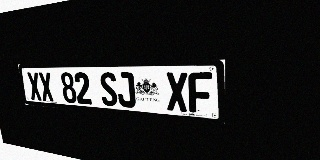2: (74, 72, 92, 105)
8: (60, 72, 77, 103)
F: (188, 72, 212, 114)
J: (116, 72, 136, 108)
S: (99, 72, 118, 107)
X: (165, 72, 188, 112), (38, 72, 54, 102), (26, 72, 42, 101)
